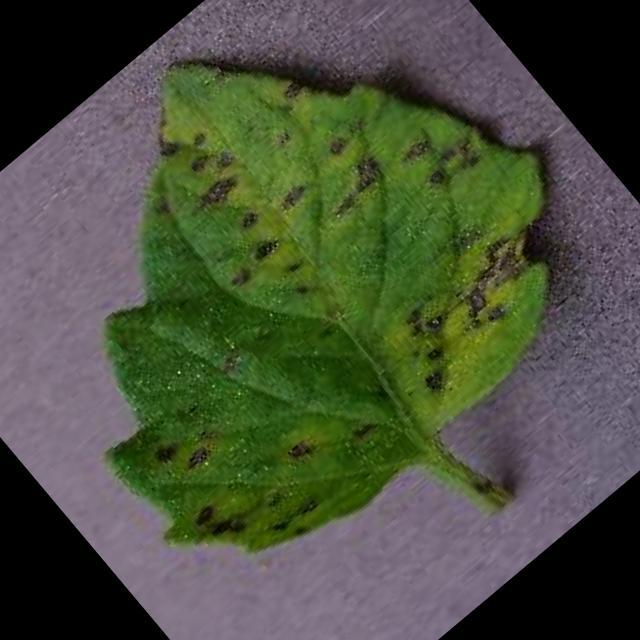Tomato Septoria spot leaf: (0, 0, 638, 617)
